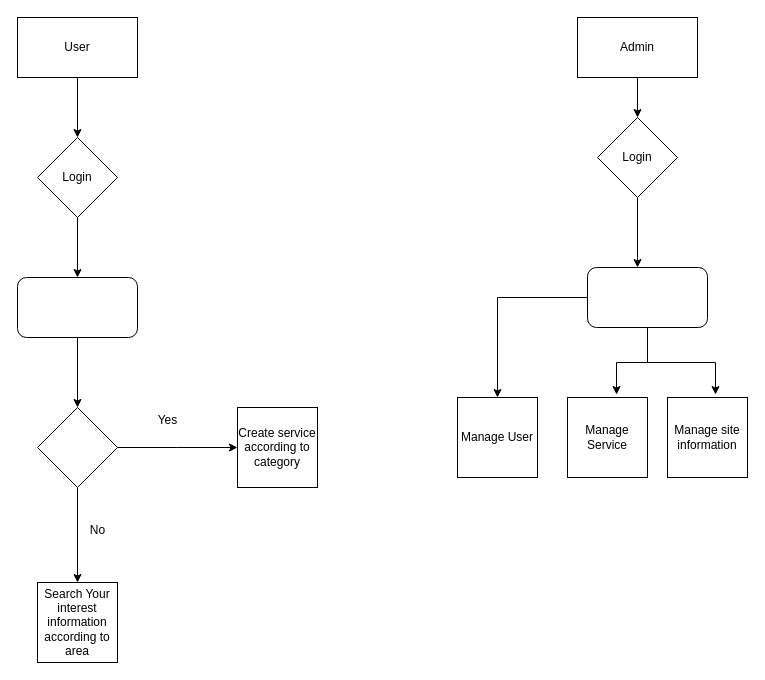
Some shapes in this 765 by 680 pixel diagram are drawn without their labels. The shapes that lost their labels are listed below. From the top down, each one's centre as x and y in pixels, then its label:
At [77,307]: "User Pannel".
At [647,297]: "Admin Pannel".
At [77,447]: "id Service Provider".
